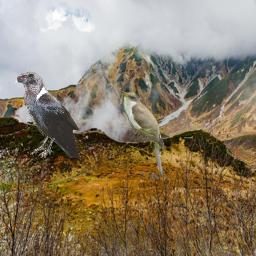Crow: (15, 71, 81, 158)
Cuckoo: (117, 89, 167, 182)
